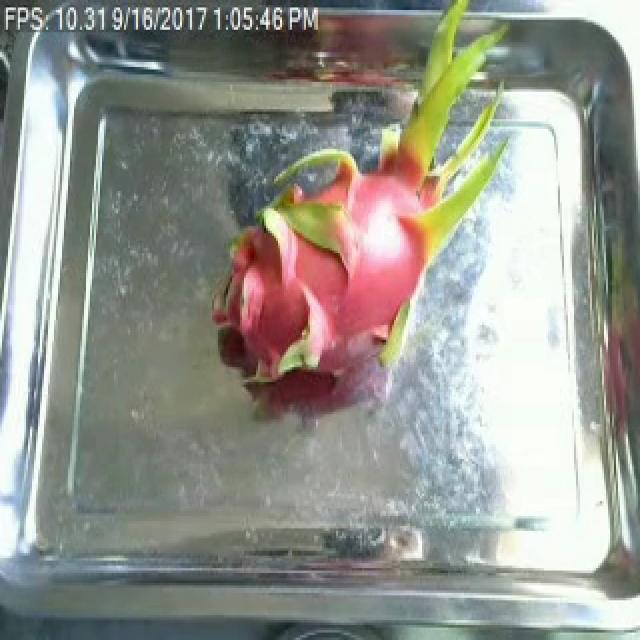fruit: (198, 47, 534, 412)
